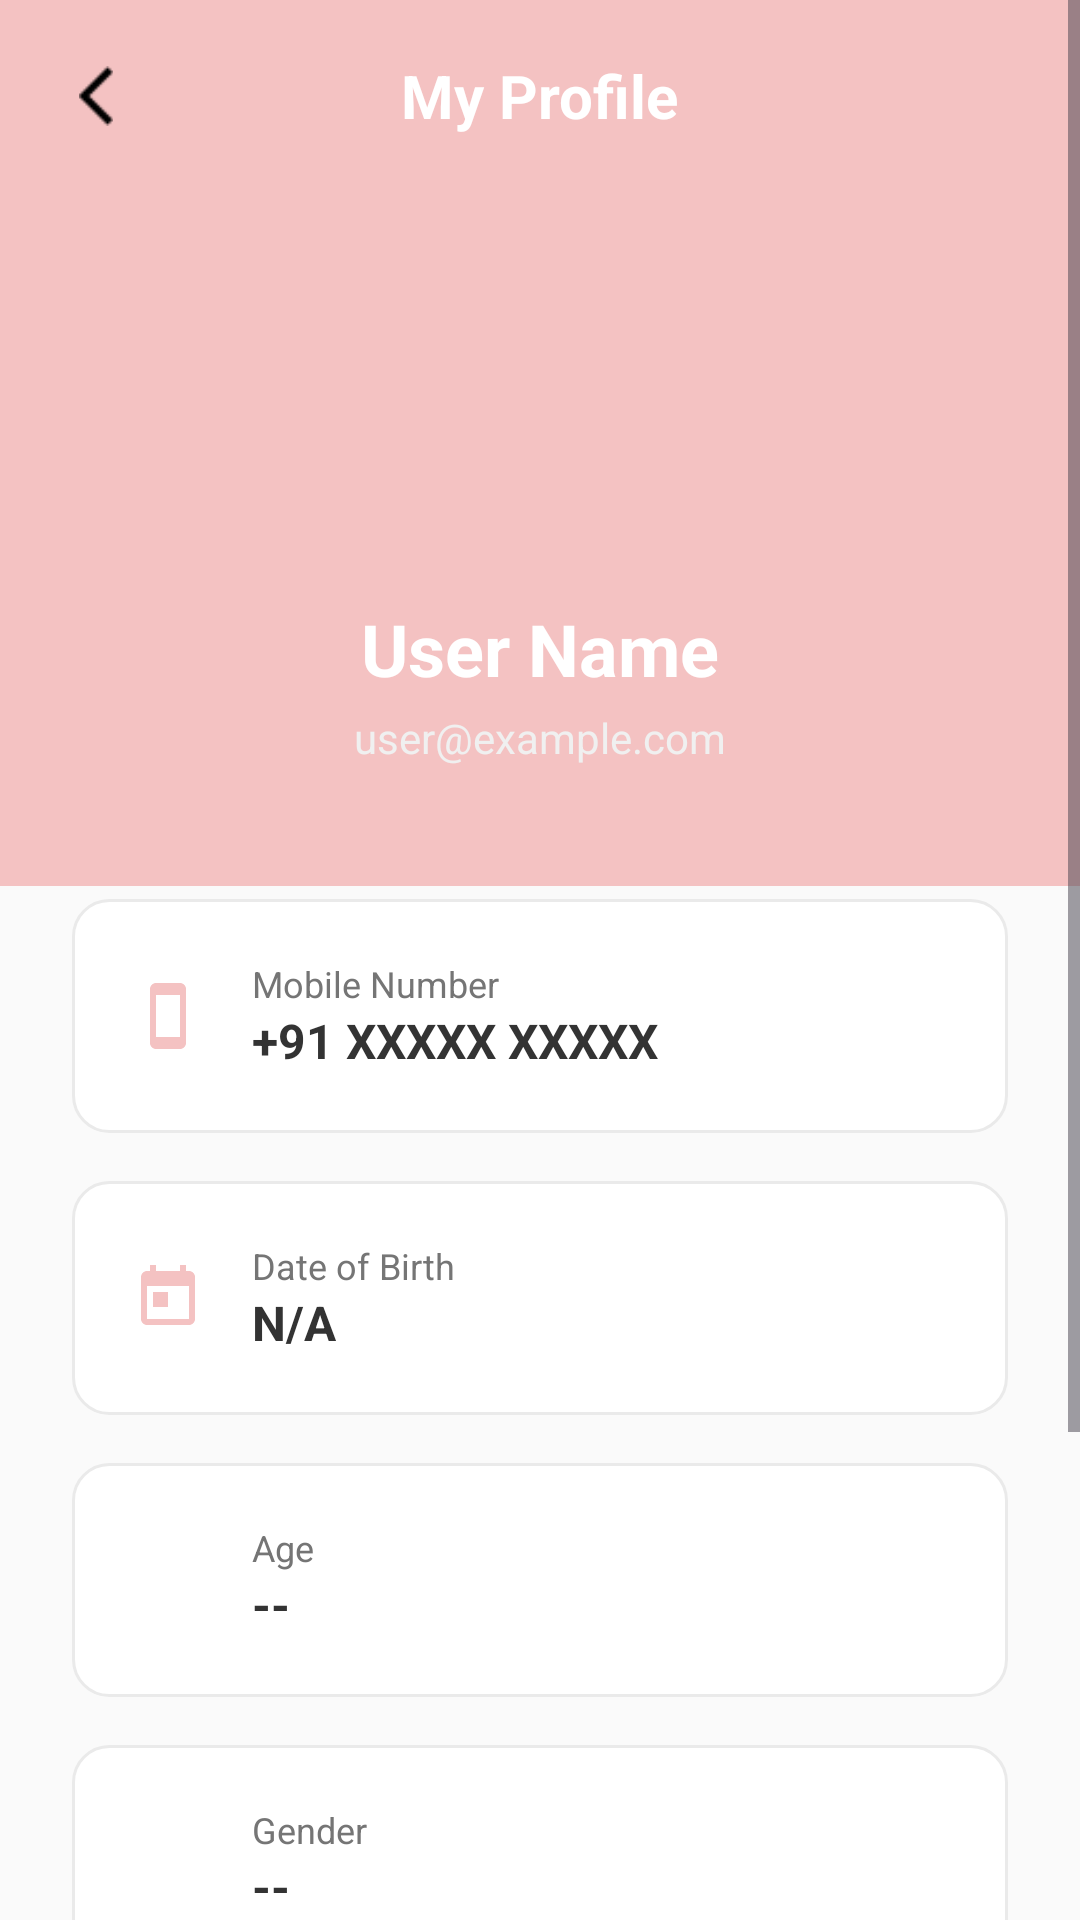

Screen size 1080px×1920px. Icon name, then its box in pixels as region(x1, y1, x2, y2):
back: region(79, 66, 113, 126)
calendar: region(141, 1265, 195, 1325)
phone android: region(150, 983, 186, 1049)
